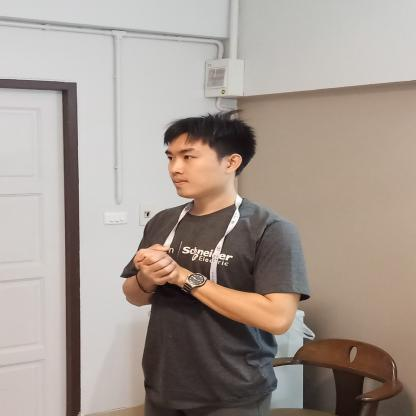Grieve: (96, 227, 239, 310)
